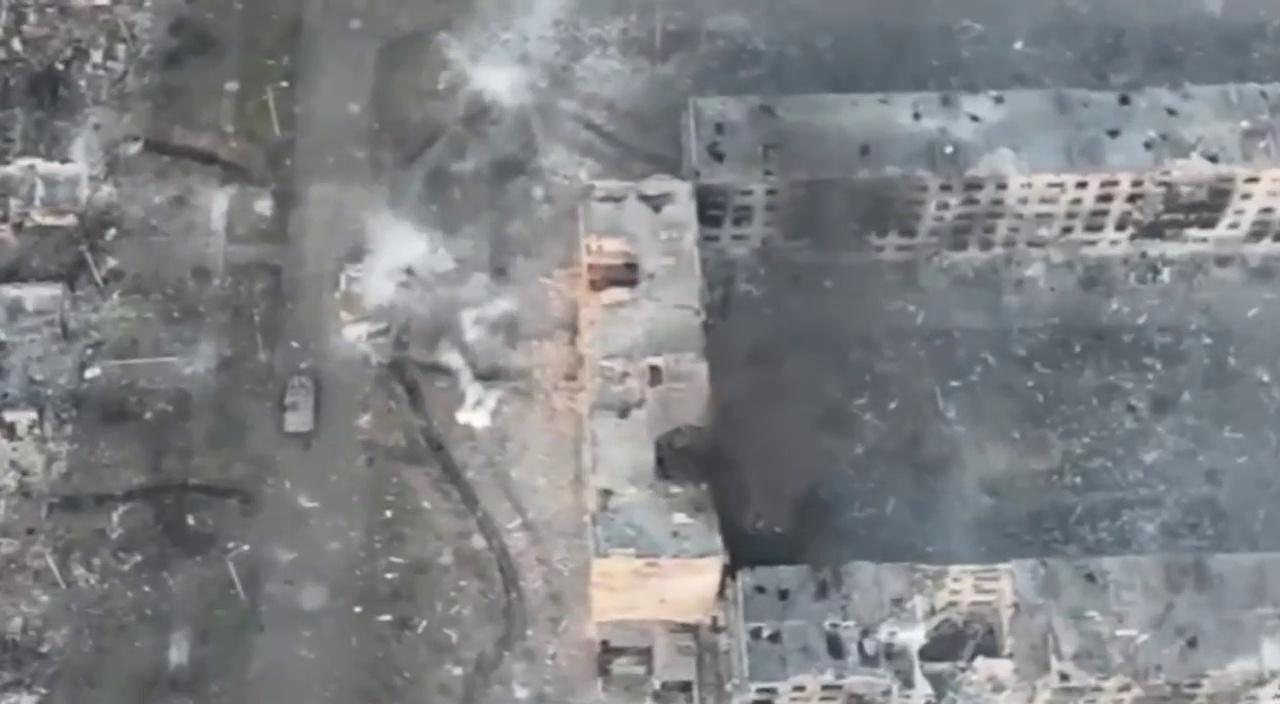vehicle: (282, 374, 318, 433)
